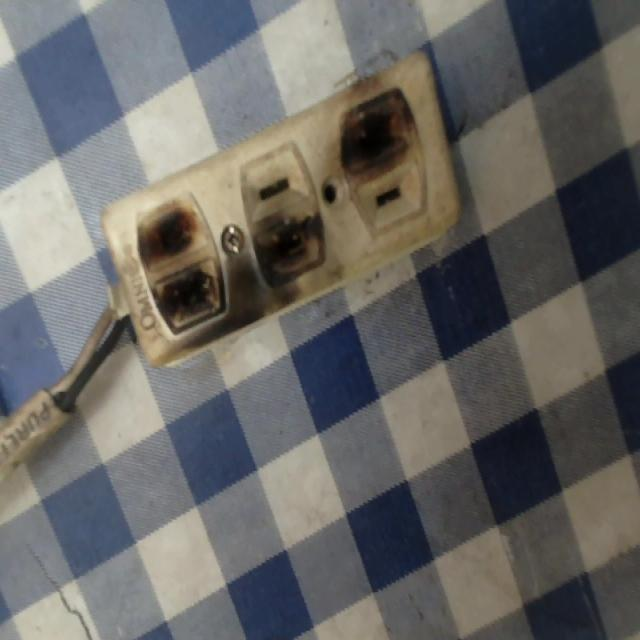-: (124, 192, 228, 345), (334, 83, 428, 180), (244, 212, 337, 299)
